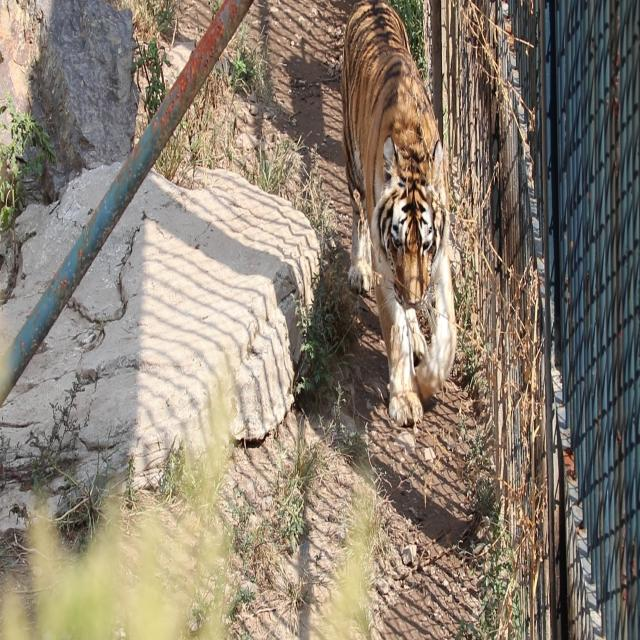Tiger: (338, 0, 449, 422)
